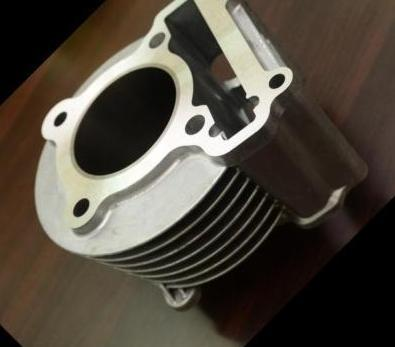hole: (175, 106, 211, 141), (64, 191, 96, 223), (47, 104, 74, 131), (143, 27, 170, 53)
